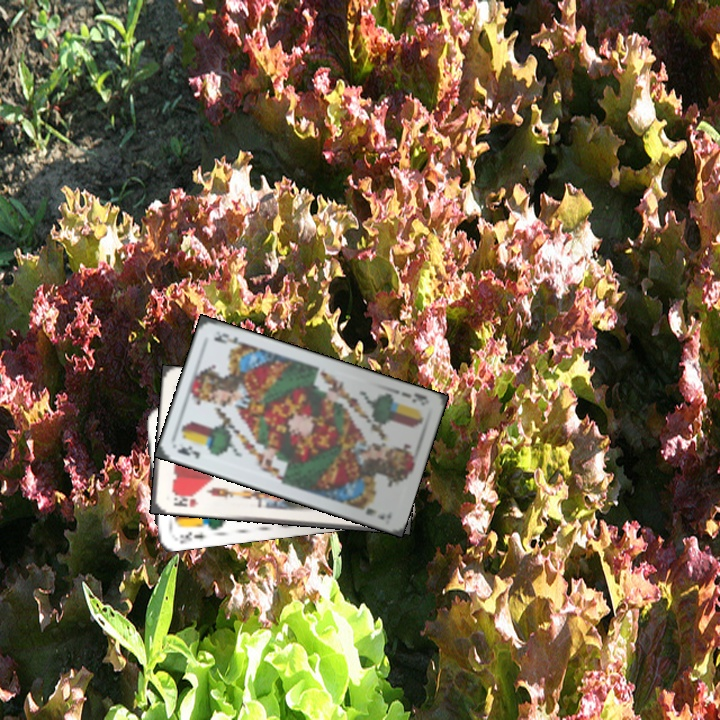EK: (398, 388, 430, 409), (175, 527, 208, 546), (174, 442, 202, 462)
HK: (169, 490, 201, 510)
